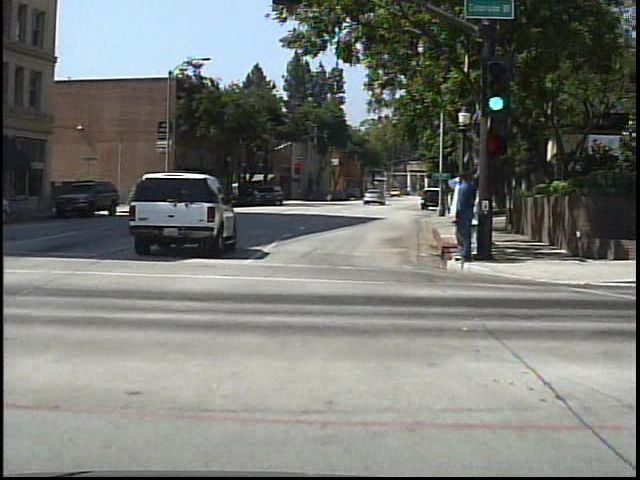person: (450, 171, 477, 266), (443, 175, 470, 267), (322, 188, 333, 204)
